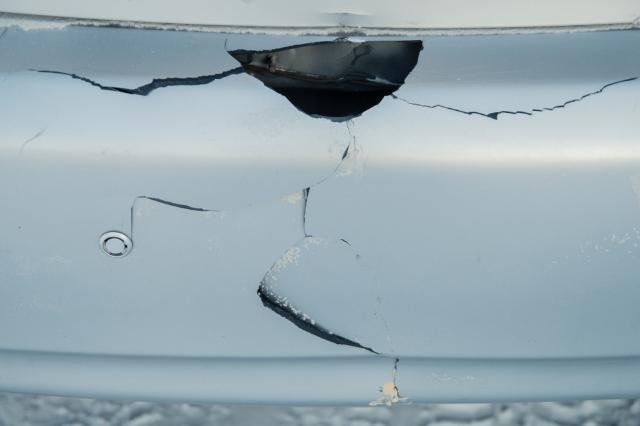Bumper: (0, 2, 640, 426)
